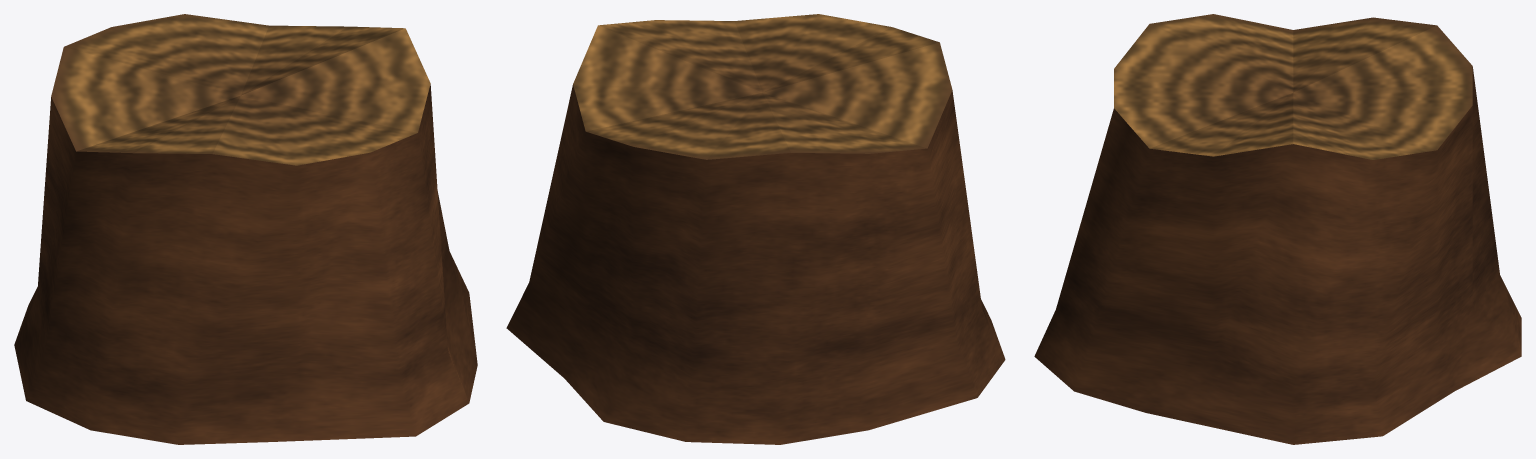
The model's file is stump_0.glb.
3 renders of one model, left to right at view 1: azimuth 30°, elevation 25°; view 2: azimuth 150°, elevation 25°; view 3: azimuth 270°, elevation 25°, orthographic. The views are drawn at different scales.
Parts seen in each view (by area): view 1: PureStump_0; view 2: PureStump_0; view 3: PureStump_0.
Part boxes in pixels (x1,y1,x2,y2): PureStump_0: [14, 14, 477, 444]; PureStump_0: [506, 14, 1005, 444]; PureStump_0: [1034, 14, 1521, 444].
Bounding box in the file's own units: 0.807 × 0.4873 × 0.7945.
Materials: 2 (2 with a texture image).
